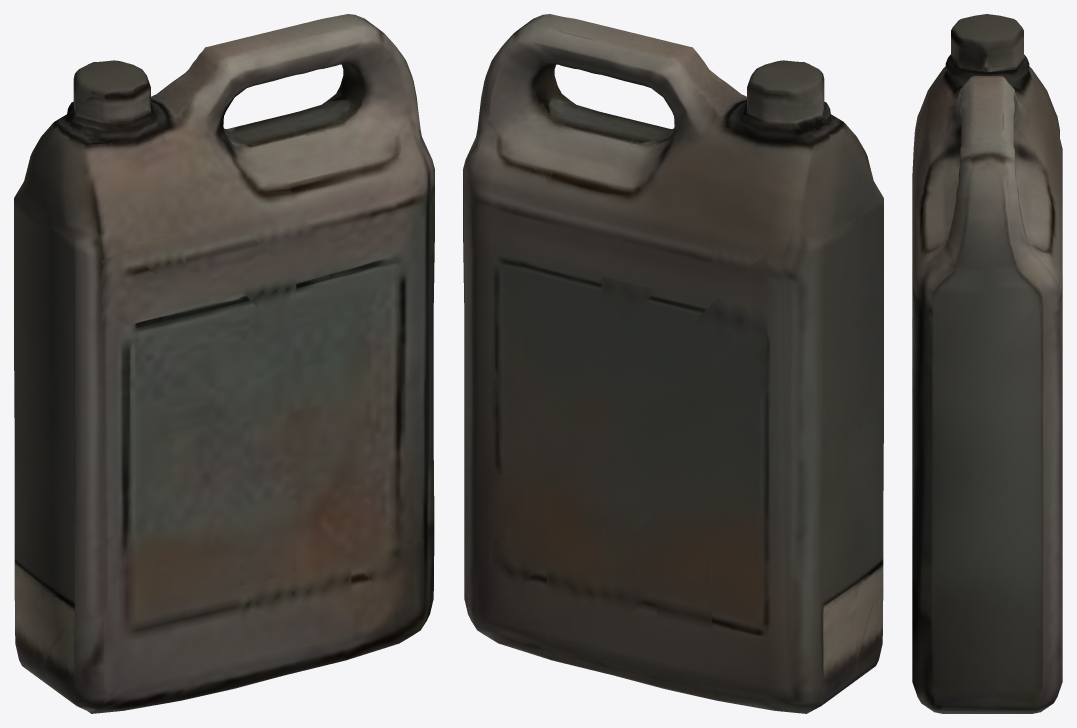
The model's file is Meshy_AI_Metal_Gas_Can_0312140915_texture.fbx.
3 renders of one model, left to right at view 1: azimuth 30°, elevation 25°; view 2: azimuth 150°, elevation 25°; view 3: azimuth 270°, elevation 25°, orthographic. The views are drawn at different scales.
Visible parts, largest first — view 1: Mesh_0; view 2: Mesh_0; view 3: Mesh_0.
Boxes of the visible parts, box(x1,y1,x2,y2) form: Mesh_0: box(14, 14, 434, 713); Mesh_0: box(463, 14, 883, 713); Mesh_0: box(912, 14, 1062, 713).
Size of the model in its own units: 119 by 191 by 45.79.
Materials: 1 (1 with a texture image).
